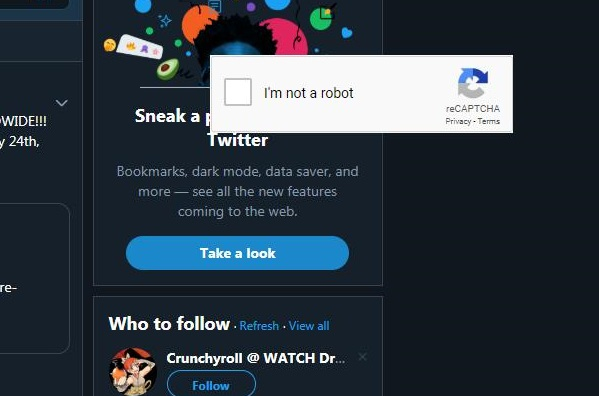captcha: (224, 78, 358, 106)
